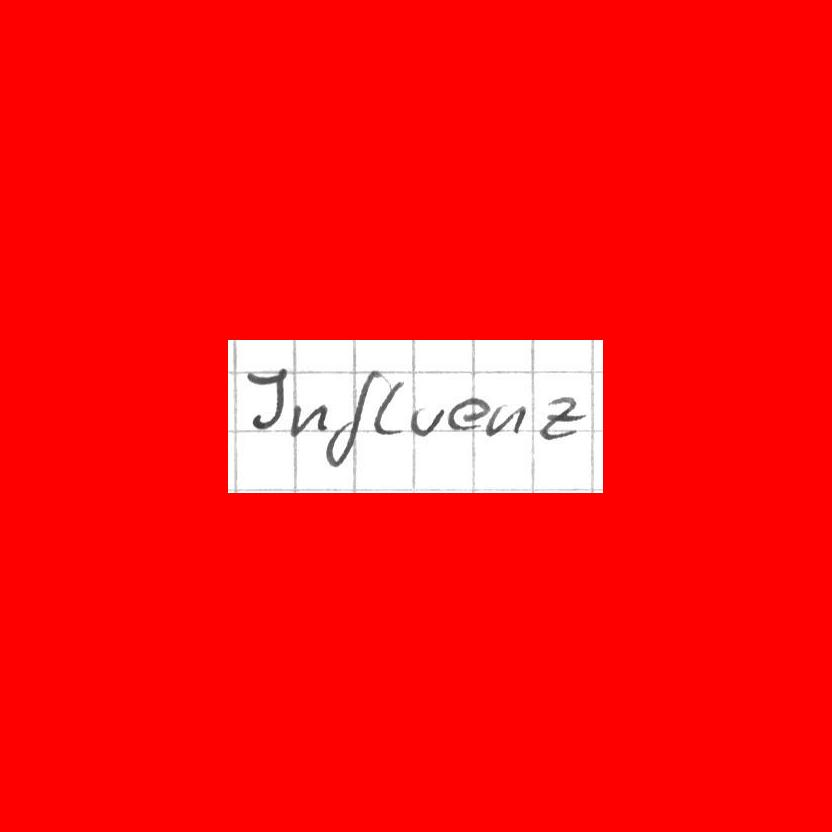Char: (324, 365, 378, 469), (242, 365, 287, 430), (536, 394, 587, 439), (372, 375, 407, 438), (287, 399, 330, 438), (448, 393, 491, 432), (485, 401, 529, 438), (409, 404, 445, 439)
